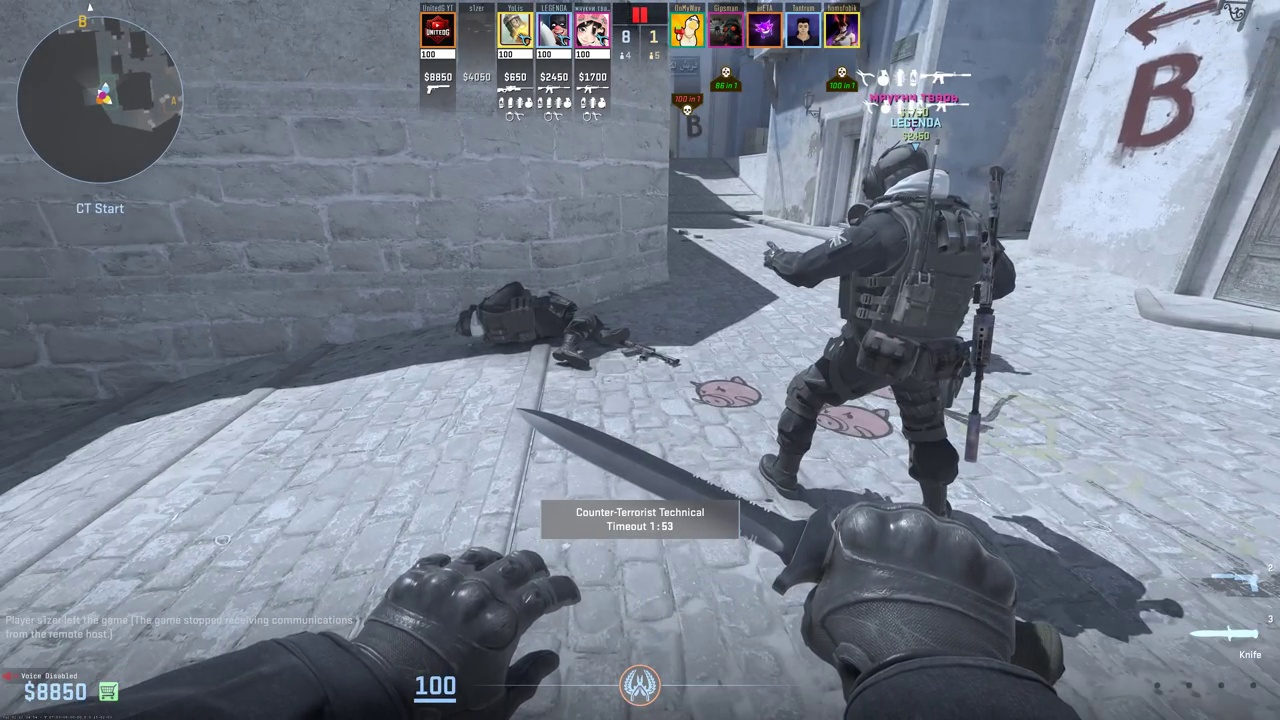CT: (773, 144, 994, 516)
